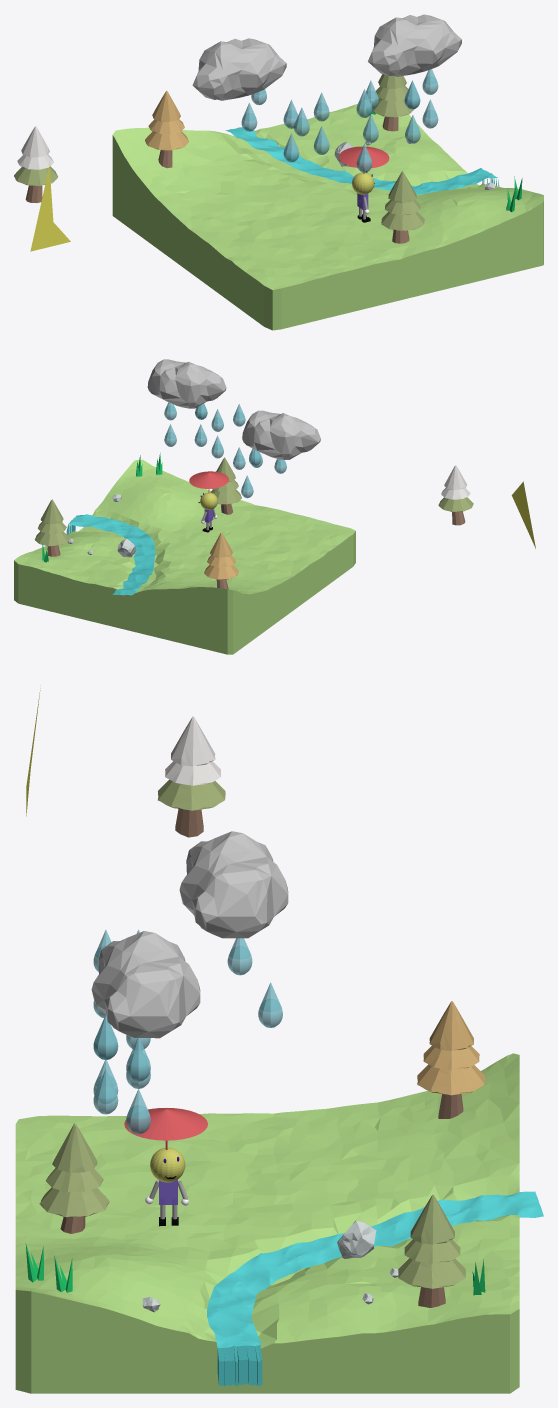
3 renders of one model, top to bottom at view 1: azimuth 30°, elevation 25°; view 2: azimuth 150°, elevation 25°; view 3: azimuth 270°, elevation 25°, orthographic. The views are drawn at different scales.
Visible parts, largest first — view 1: terrain, cloud, clouds:pPlatonic1, water, thunder:polySurface1, umbrella:Mesh, pCylinder1, trees:pCylinder8, trees:pCylinder12, trees:pCylinder1, pCylinder4, trees:pCylinder11 (+6 smaller); view 2: terrain, clouds:pPlatonic1, cloud, water, umbrella:Mesh, thunder:polySurface1, trees:pCylinder1, trees:pCylinder8, trees:pCylinder12; view 3: terrain, water, cloud, clouds:pPlatonic1, umbrella:Mesh, trees:pCylinder1, trees:pCylinder12, trees:pCylinder8, pCylinder1, trees:pCylinder4, trees:pCylinder11, trees:pCylinder7 (+7 smaller).
Part boxes in pixels (bbox=[...]): terrain: bbox=[112, 100, 543, 330]; cloud: bbox=[192, 38, 286, 100]; clouds:pPlatonic1: bbox=[368, 14, 461, 76]; water: bbox=[225, 127, 499, 194]; thunder:polySurface1: bbox=[30, 165, 70, 251]; umbrella:Mesh: bbox=[339, 146, 389, 173]; pCylinder1: bbox=[381, 212, 424, 230]; trees:pCylinder8: bbox=[145, 131, 188, 150]; trees:pCylinder12: bbox=[14, 166, 57, 185]; trees:pCylinder1: bbox=[372, 98, 413, 117]; pCylinder4: bbox=[388, 171, 416, 202]; trees:pCylinder11: bbox=[21, 126, 49, 157]; terrain: bbox=[14, 459, 355, 654]; clouds:pPlatonic1: bbox=[147, 359, 226, 408]; cloud: bbox=[242, 410, 320, 459]; water: bbox=[66, 514, 155, 595]; umbrella:Mesh: bbox=[189, 471, 228, 492]; thunder:polySurface1: bbox=[511, 481, 535, 548]; trees:pCylinder1: bbox=[34, 531, 69, 546]; trees:pCylinder8: bbox=[204, 564, 239, 579]; trees:pCylinder12: bbox=[438, 497, 473, 511]; terrain: bbox=[15, 1053, 519, 1393]; water: bbox=[207, 1191, 543, 1386]; cloud: bbox=[179, 831, 288, 938]; clouds:pPlatonic1: bbox=[91, 931, 200, 1038]; umbrella:Mesh: bbox=[124, 1108, 207, 1149]; trees:pCylinder1: bbox=[398, 1258, 465, 1288]; trees:pCylinder12: bbox=[158, 779, 225, 810]; trees:pCylinder8: bbox=[417, 1064, 484, 1095]; pCylinder1: bbox=[39, 1187, 109, 1217]; trees:pCylinder4: bbox=[410, 1194, 454, 1244]; trees:pCylinder11: bbox=[171, 716, 215, 766]; trees:pCylinder7: bbox=[429, 1001, 473, 1050].
Bounding box in the file's own units: 64.15 × 28.56 × 35.37.
